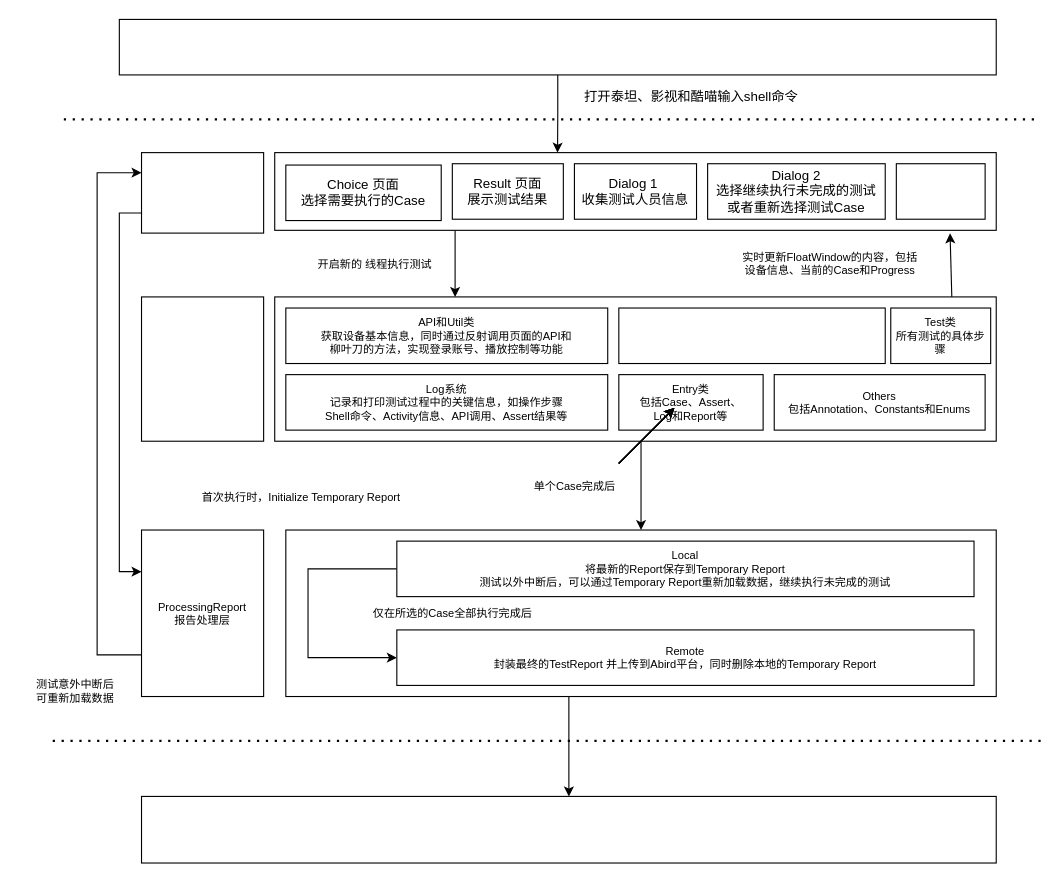
Some shapes in this 1061 by 882 pixel diagram are drawn without their labels. The shapes that lost their labels are listed below. From the top down, each one's centre as x and y in pixels, then its label:
At [557,46]: "适用于测试几乎所有OTT终端设备，包括魔盒泰坦、魔屏泰坦、一体机泰坦、一体机影视、以及第三方设备上的酷喵App".
At [202,192]: "View 表现层".
At [940,191]: "FloatWindow 悬浮窗".
At [751,335]: "Page 类 在DeleailPage、PlaylistPage、LivePage等 不同页面适配对应的API".
At [202,368]: "Execution 执行层".
At [568,829]: "Abird平台上显示测试结果".
